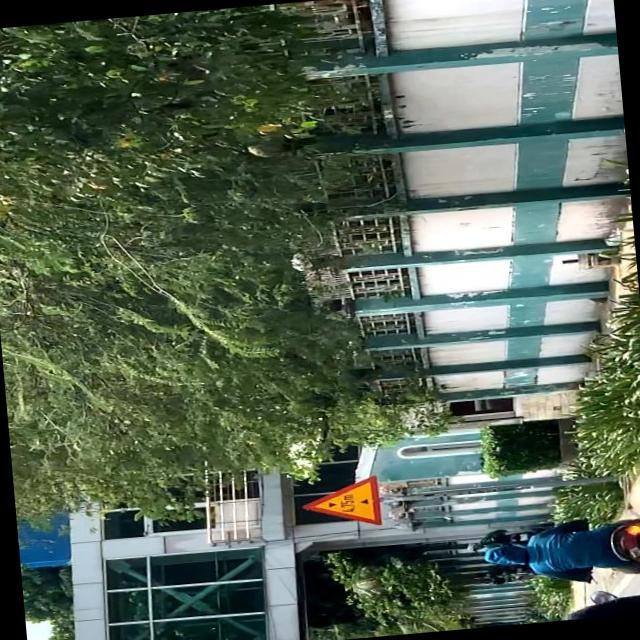W-239b: (297, 475, 383, 530)
